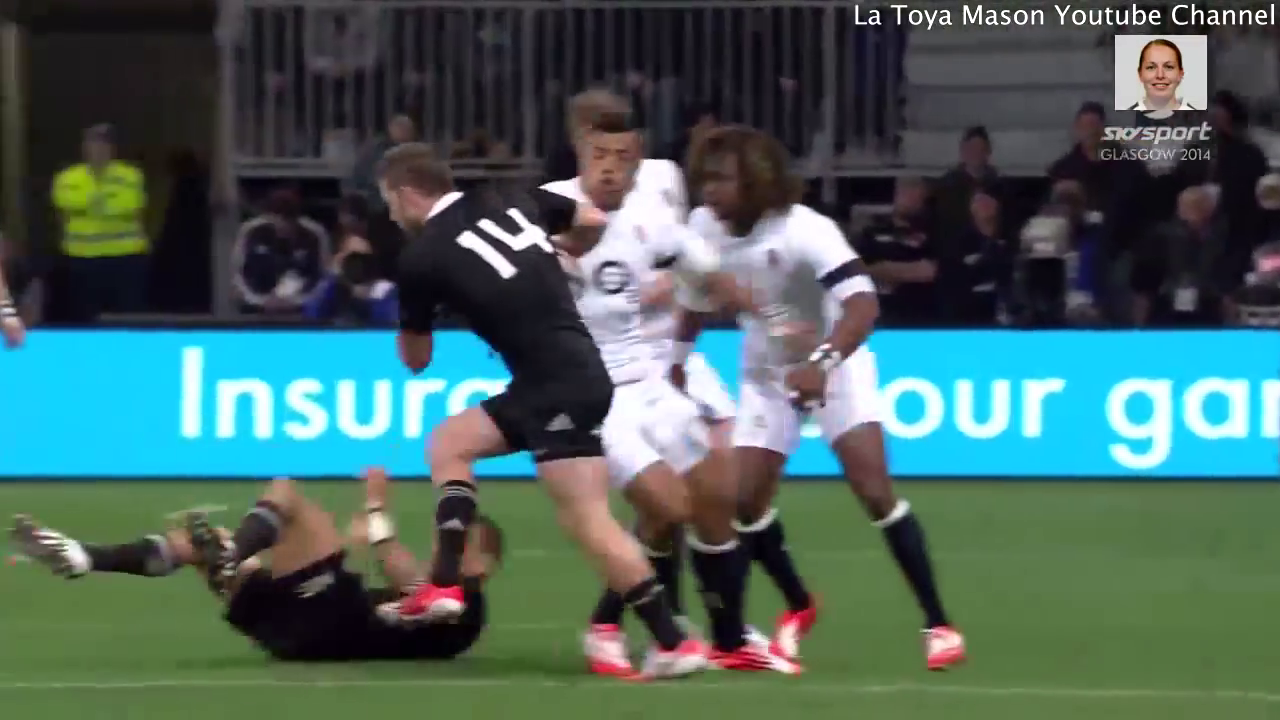player: (360, 149, 709, 664), (673, 134, 964, 672), (6, 480, 496, 659), (540, 126, 704, 572)
